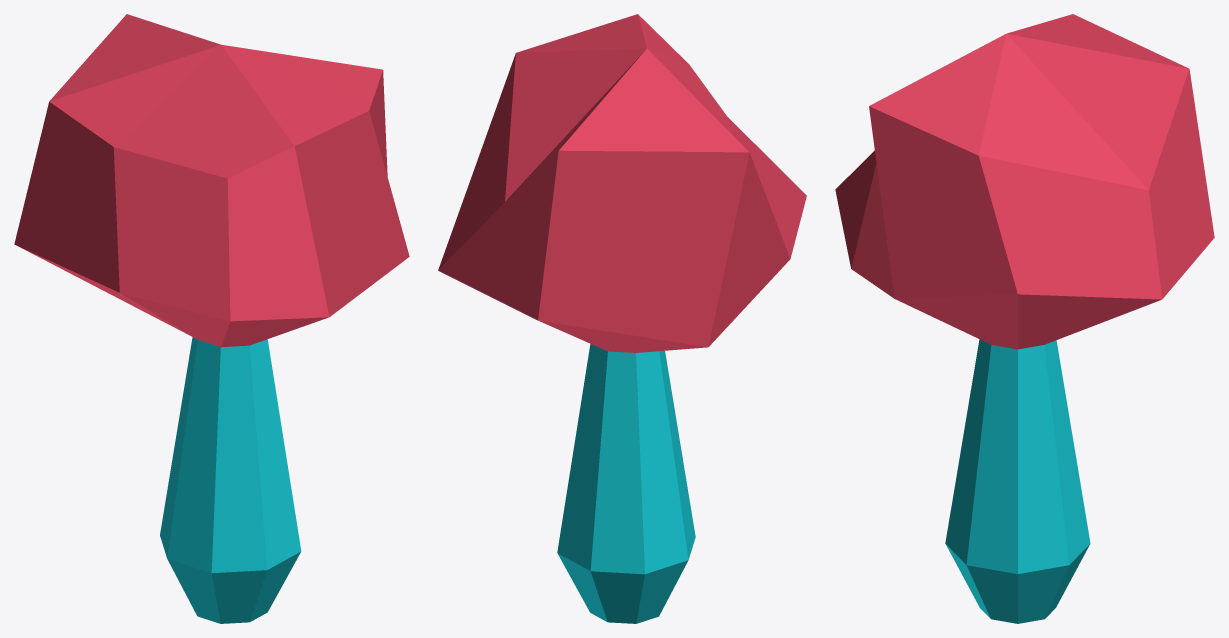
File: TREE-FBX.fbx
The picture shows the model from 3 angles, left to right: view 1: azimuth 30°, elevation 25°; view 2: azimuth 150°, elevation 25°; view 3: azimuth 270°, elevation 25°; orthographic projection. The views are drawn at different scales.
Visible parts, largest first — view 1: Sphere; view 2: Sphere; view 3: Sphere.
Boxes of the visible parts, x1,y1,x2,y2 form: Sphere: [14, 14, 409, 623]; Sphere: [438, 14, 806, 623]; Sphere: [835, 14, 1214, 623].
Size of the model in its own units: 198 by 348 by 211.
